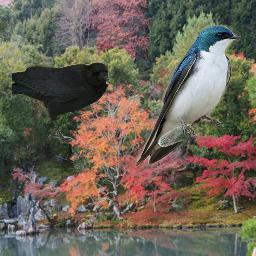Crow: (12, 62, 110, 144)
Swallow: (135, 25, 241, 168)
